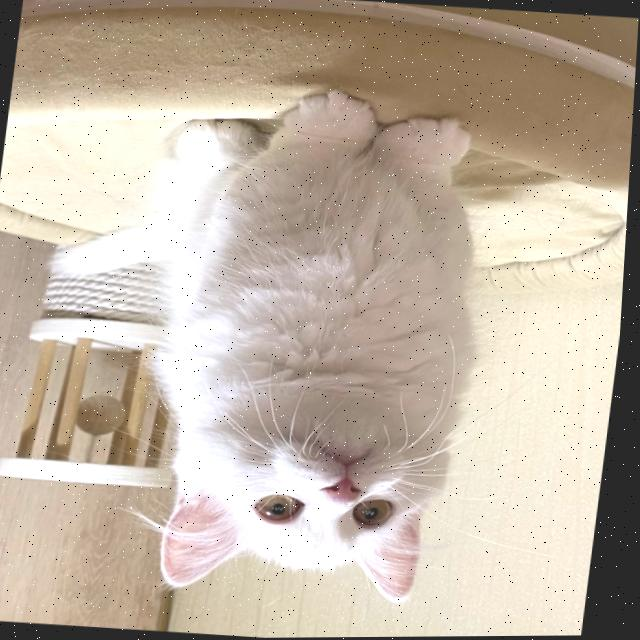Munchkin: (4, 62, 524, 620)
